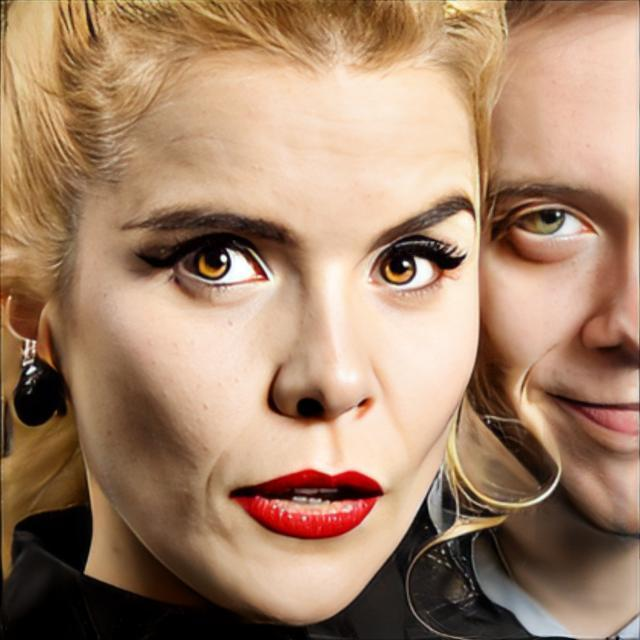content: (63, 28, 482, 628)
